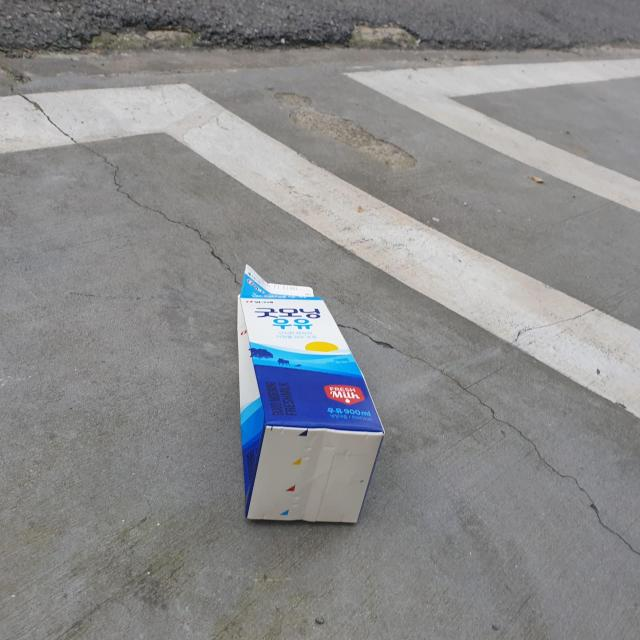paperpack: (237, 266, 384, 524)
